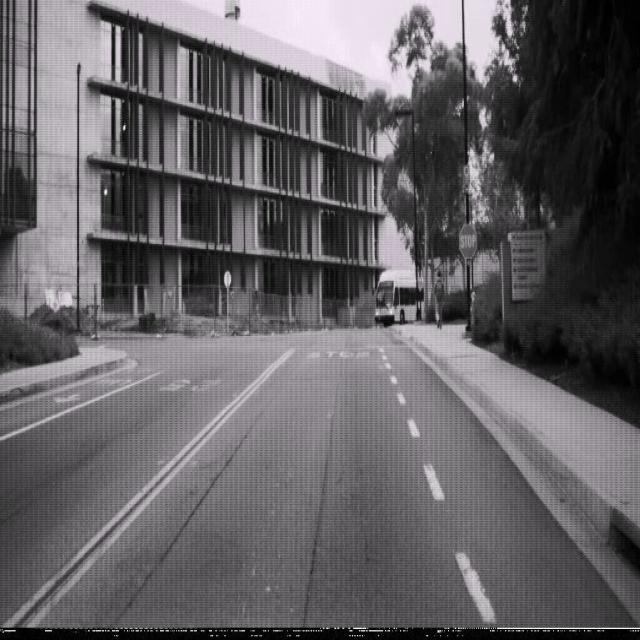stop_sign: (459, 222, 478, 260)
